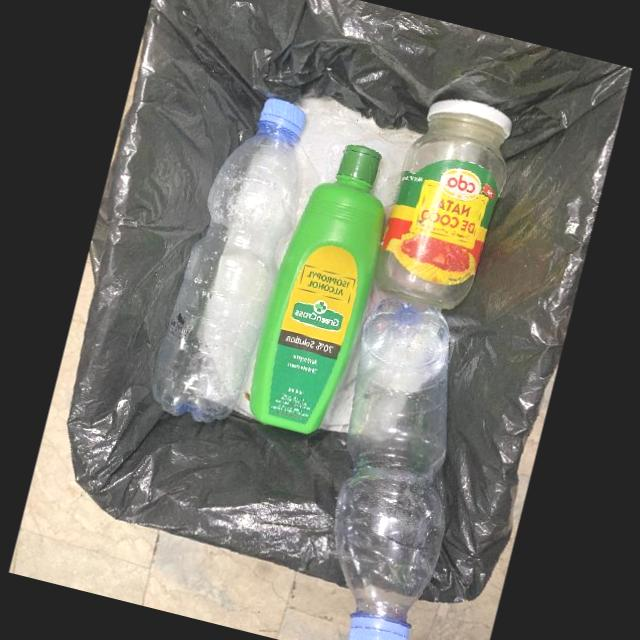chai_nhua: (248, 141, 386, 433)
chai_nhua_pet: (151, 96, 307, 421), (333, 295, 451, 640)
chai_thuy_tinh: (374, 97, 512, 309)
